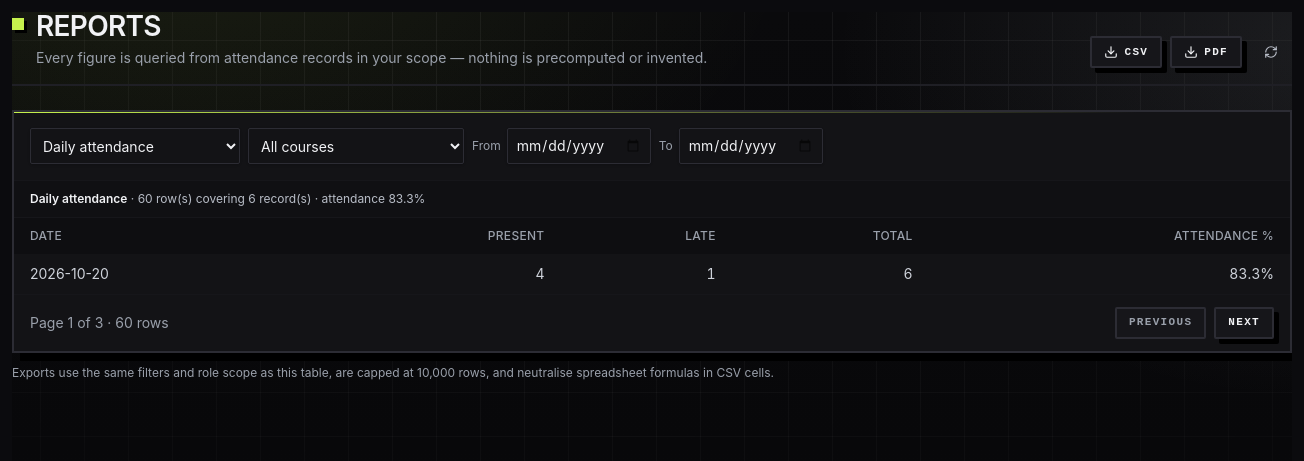
Test: reports page › refetches when the report type changes and downloads an export
Expected: the text "2026-10-20" is shown, [14,254,318,294]
Select "Absences" in the dropdown named "Report type" at (135,146), box [30,128,240,164]
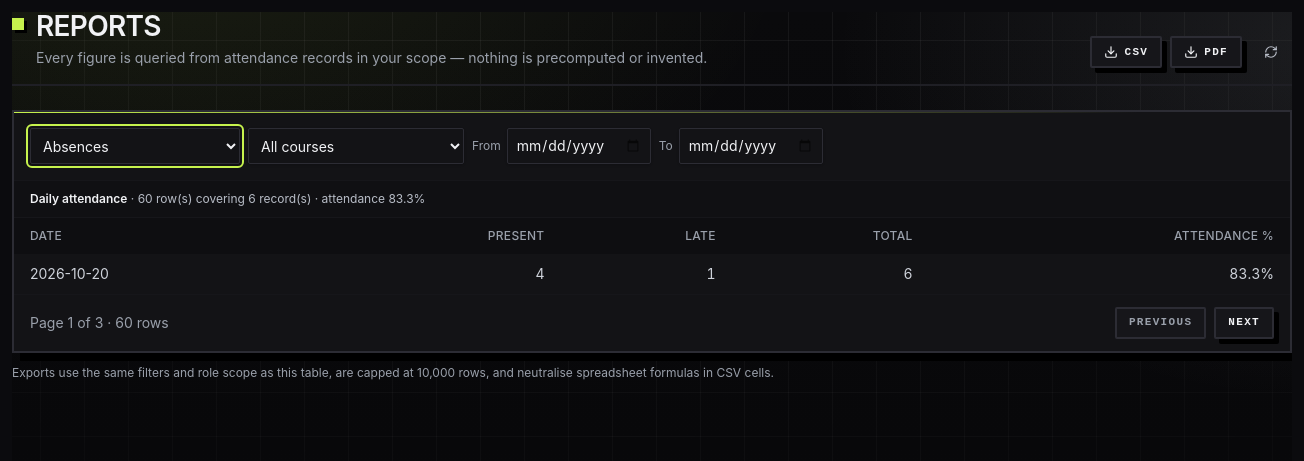
Click the button "CSV".
click(1126, 52)  # box [1090,36,1162,68]
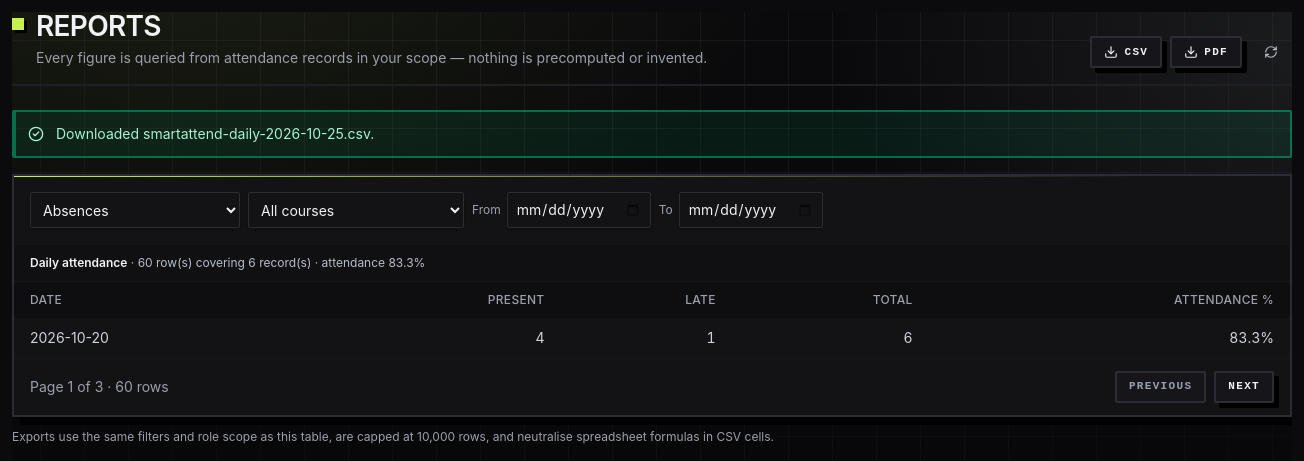
Now the text "Downloaded smartattend-daily-2026-10-25.csv." is shown, box [56,124,374,144]
